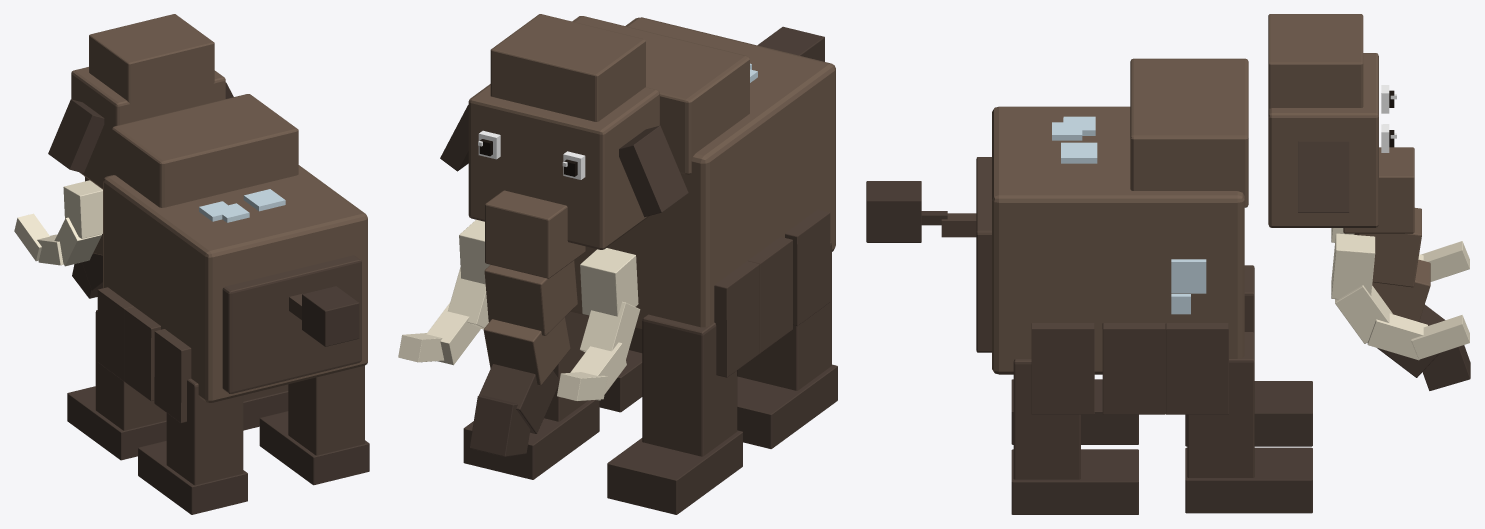
File: mammoth.glb
3 views of the same model, side by side, from view 1: azimuth 30°, elevation 25°; view 2: azimuth 150°, elevation 25°; view 3: azimuth 270°, elevation 25° (orthographic). The views are drawn at different scales.
Parts seen in each view (by area): view 1: body, head, leg.BR, leg.BL, leg.FR, tail, ear.R, leg.FL; view 2: head, body, leg.FR, leg.BR, leg.FL, ear.R, leg.BL, tail, ear.L; view 3: body, head, leg.FL, leg.BL, leg.FR, tail, ear.L, leg.BR.
Part boxes in pixels (box(x1,y1,x2,y2)): body: box(97, 94, 367, 423); head: box(14, 14, 225, 298); leg.BR: box(138, 378, 247, 514); leg.BL: box(259, 365, 369, 485); leg.FR: box(67, 310, 166, 460); tail: box(289, 286, 359, 346); ear.R: box(48, 99, 104, 173); leg.FL: box(243, 384, 288, 430); head: box(398, 14, 659, 456); body: box(571, 16, 835, 377); leg.FR: box(607, 314, 742, 514); leg.BR: box(737, 242, 837, 448); leg.FL: box(463, 311, 599, 479); ear.R: box(619, 125, 688, 217); leg.BL: box(599, 327, 642, 412); tail: box(757, 26, 824, 61); ear.L: box(440, 105, 468, 171); body: box(976, 58, 1248, 414); head: box(1268, 14, 1470, 390); leg.FL: box(1185, 332, 1312, 513); leg.BL: box(1011, 359, 1138, 514); leg.FR: box(1185, 265, 1312, 446); tail: box(866, 181, 976, 242); ear.L: box(1298, 141, 1349, 212); leg.BR: box(1011, 379, 1138, 444).
Bounding box in the file's own units: 0.5298 × 1 × 1.29.
